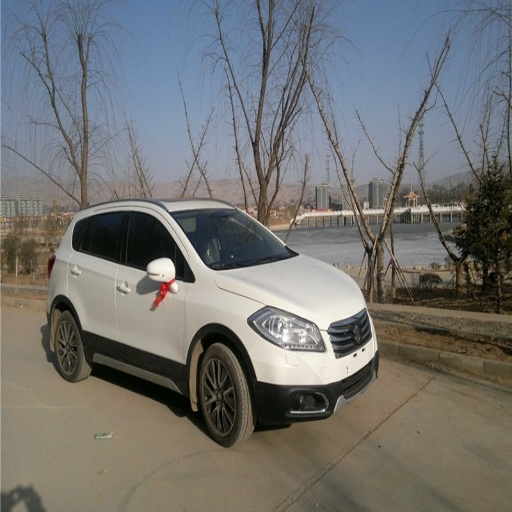front_bumper: (250, 313, 378, 427)
front_right_door: (117, 209, 184, 380)
front_right_light: (248, 306, 326, 352)
